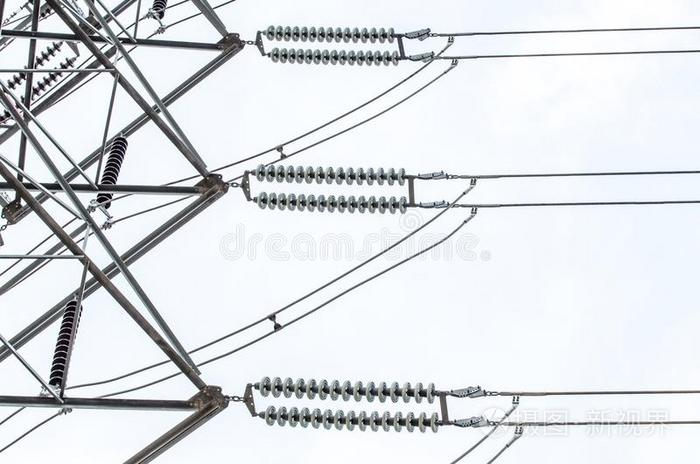insulator: (1, 42, 76, 120), (257, 373, 437, 404), (264, 403, 442, 431), (255, 190, 410, 217), (254, 162, 406, 187), (49, 300, 84, 387), (265, 22, 396, 45), (267, 47, 400, 67), (96, 138, 127, 205)
